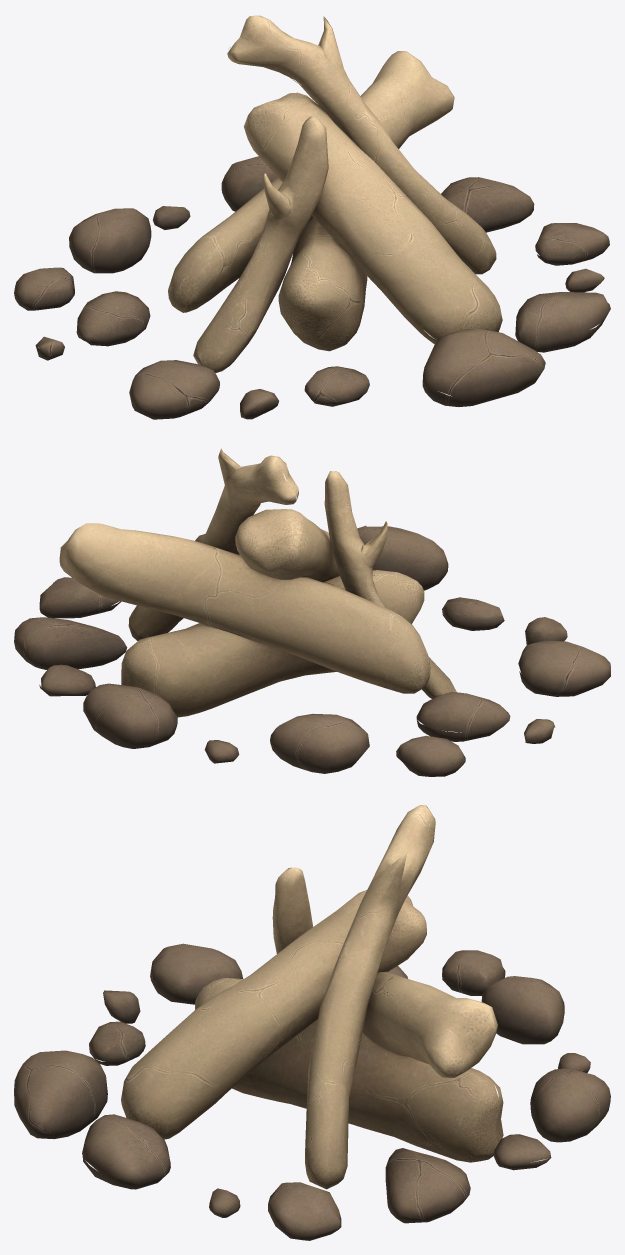
Rendered from tb_bonefire2.glb.
The picture shows the model from 3 angles, top to bottom: view 1: azimuth 30°, elevation 25°; view 2: azimuth 150°, elevation 25°; view 3: azimuth 270°, elevation 25°; orthographic projection. The views are drawn at different scales.
Parts seen in each view (by area): view 1: tb_bonefire; view 2: tb_bonefire; view 3: tb_bonefire.
Boxes of the visible parts, left/top/right/bottom form: tb_bonefire: left=14, top=15, right=610, bottom=419; tb_bonefire: left=14, top=448, right=610, bottom=776; tb_bonefire: left=14, top=805, right=610, bottom=1240.
Bounding box in the file's own units: 2.3 × 1.12 × 2.02.
Materials: 1 (1 with a texture image).
